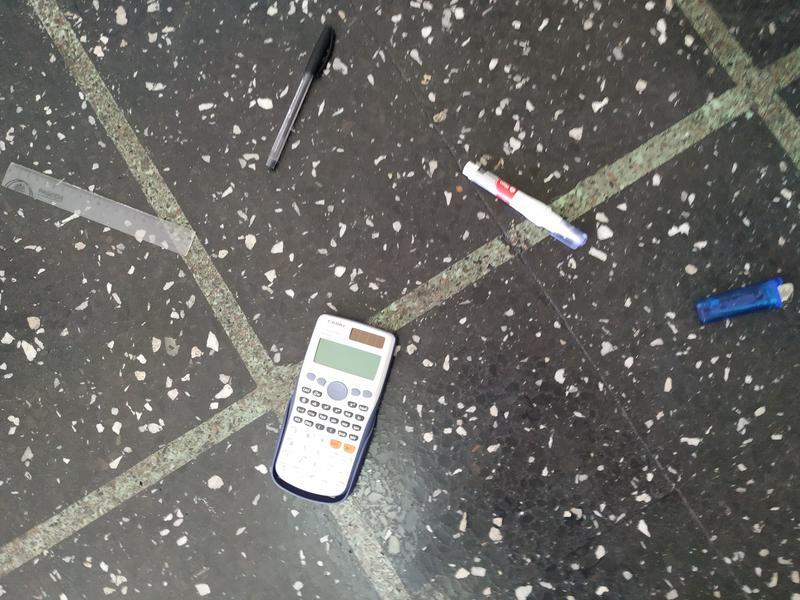calculadora: (274, 302, 401, 511)
corrector: (450, 151, 594, 251)
encendedor: (695, 269, 797, 330)
lapicera: (259, 20, 348, 179)
regla: (1, 154, 200, 267)
